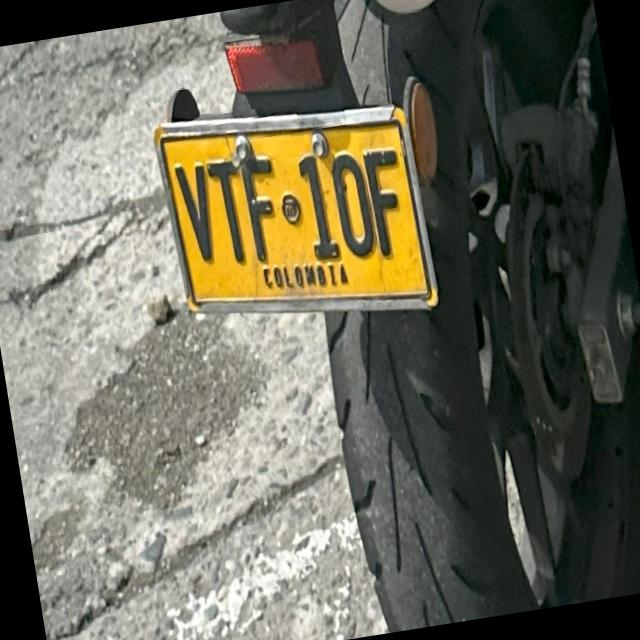number plate: (154, 105, 436, 310)
